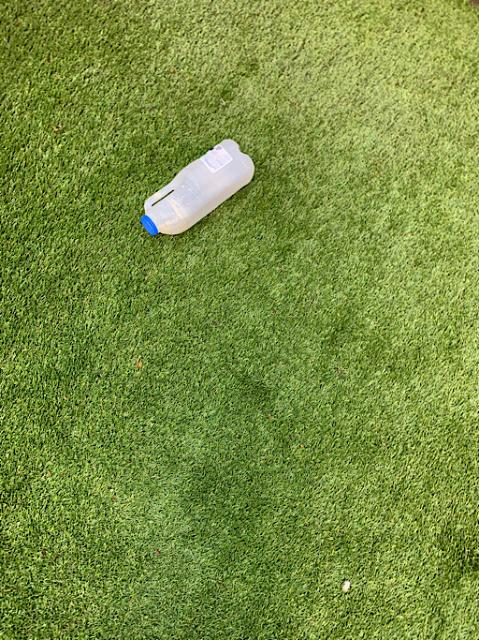plastic: (141, 139, 253, 233)
